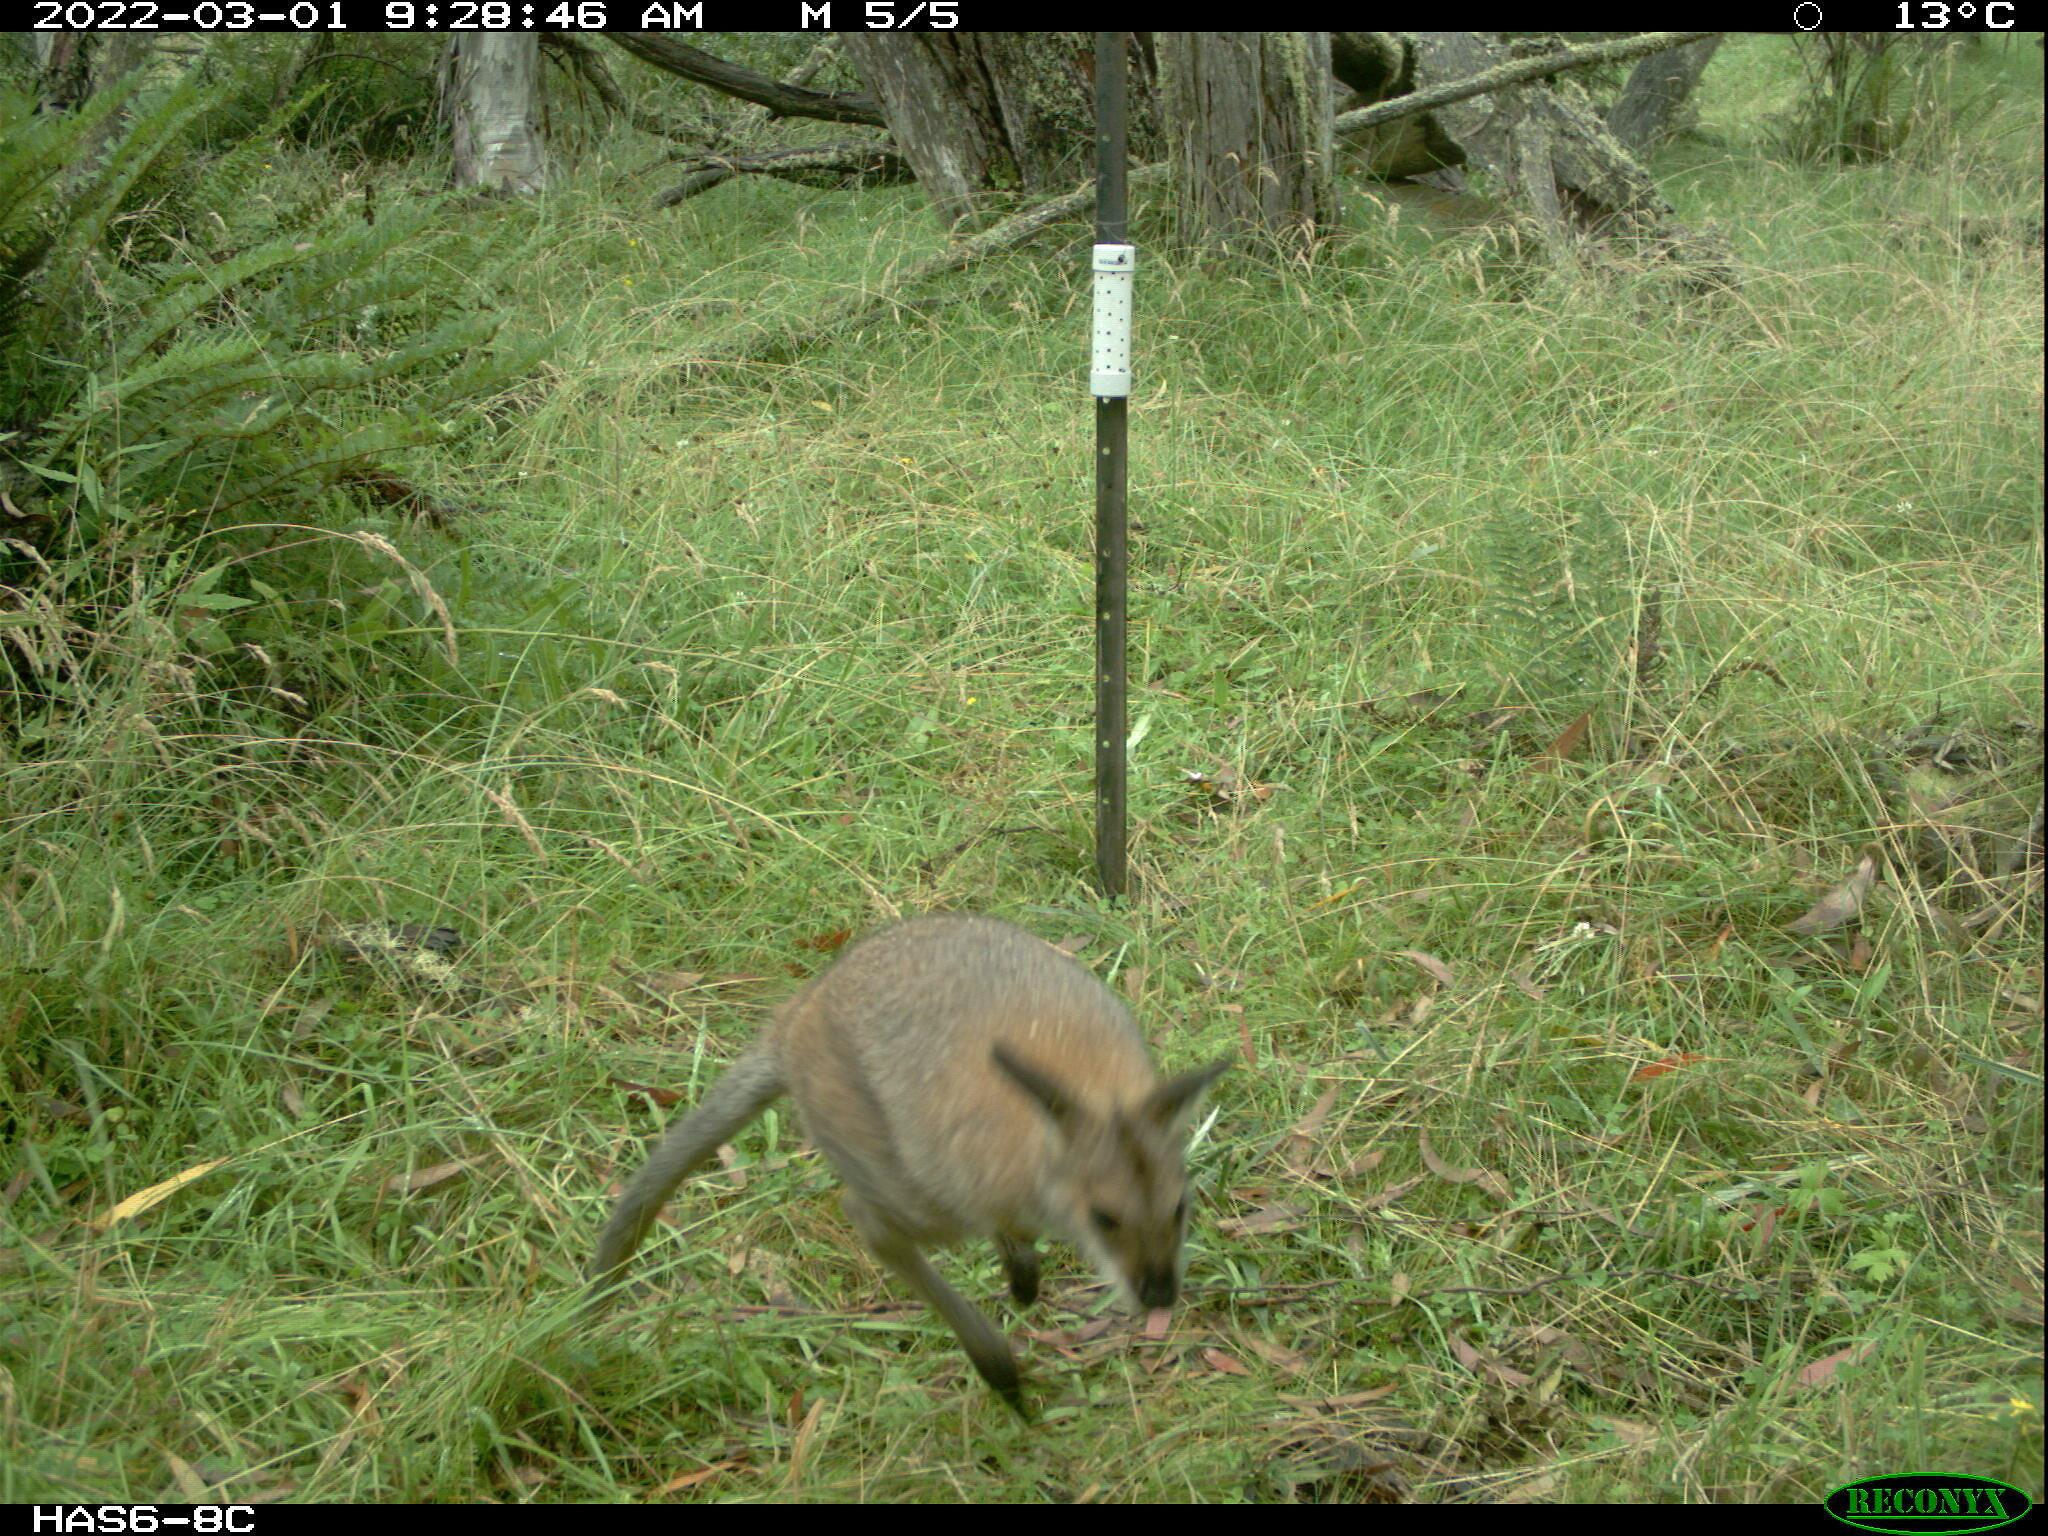Red-necked wallaby: (566, 916, 1240, 1420)
